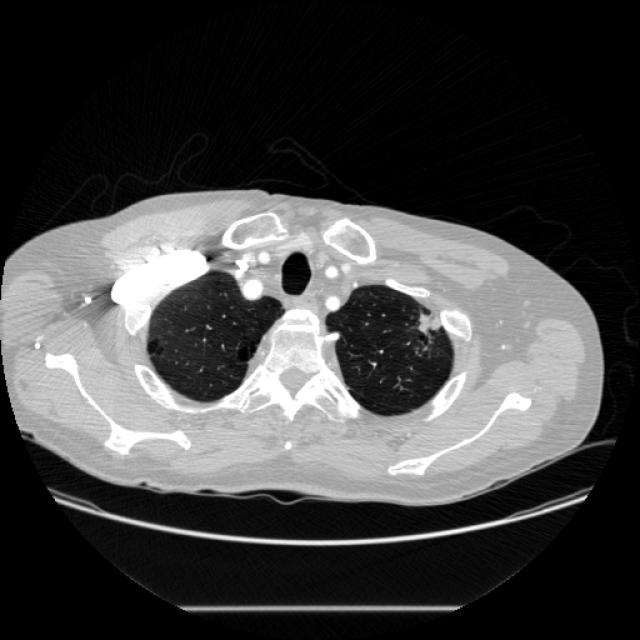nodule: (405, 303, 447, 345)
